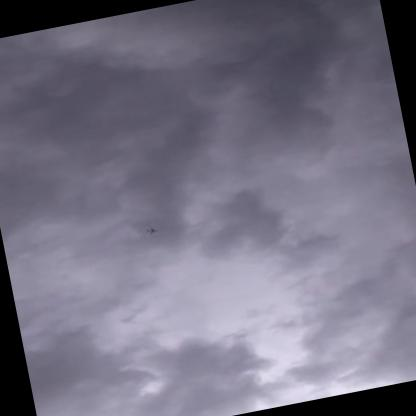plane: (146, 225, 159, 235)
